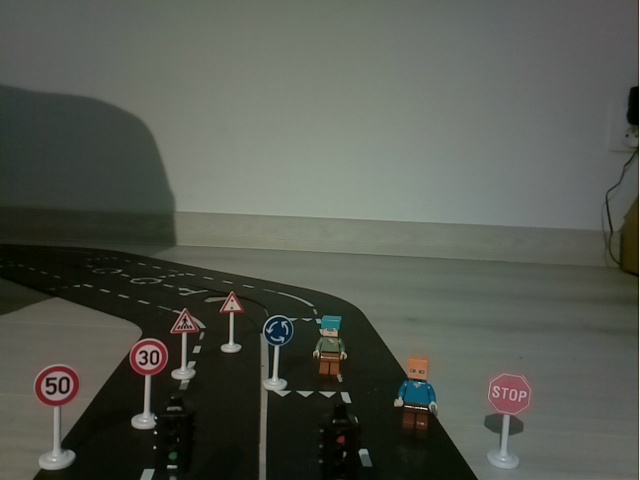green light: (160, 399, 193, 479)
limit 30: (127, 337, 167, 412)
limit 50: (31, 359, 82, 474)
pedestrian sign: (171, 307, 201, 383)
person: (393, 353, 441, 434)
red light: (320, 401, 365, 480)
round: (262, 315, 295, 392)
second person: (310, 312, 350, 381)
stop: (479, 366, 537, 475)
traffic light sign: (217, 290, 247, 357)
